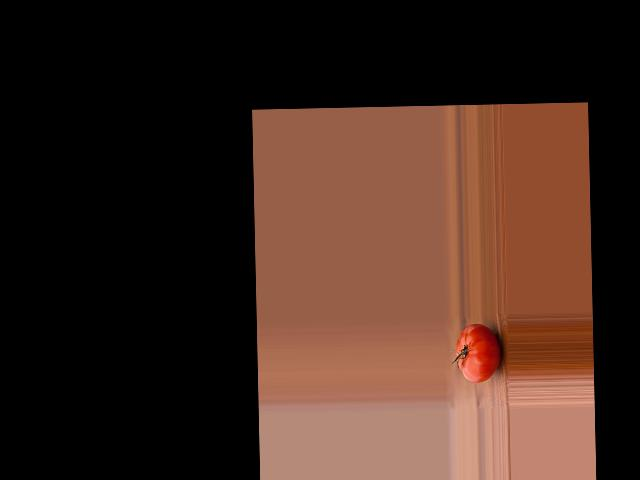tomato: (455, 323, 501, 383)
